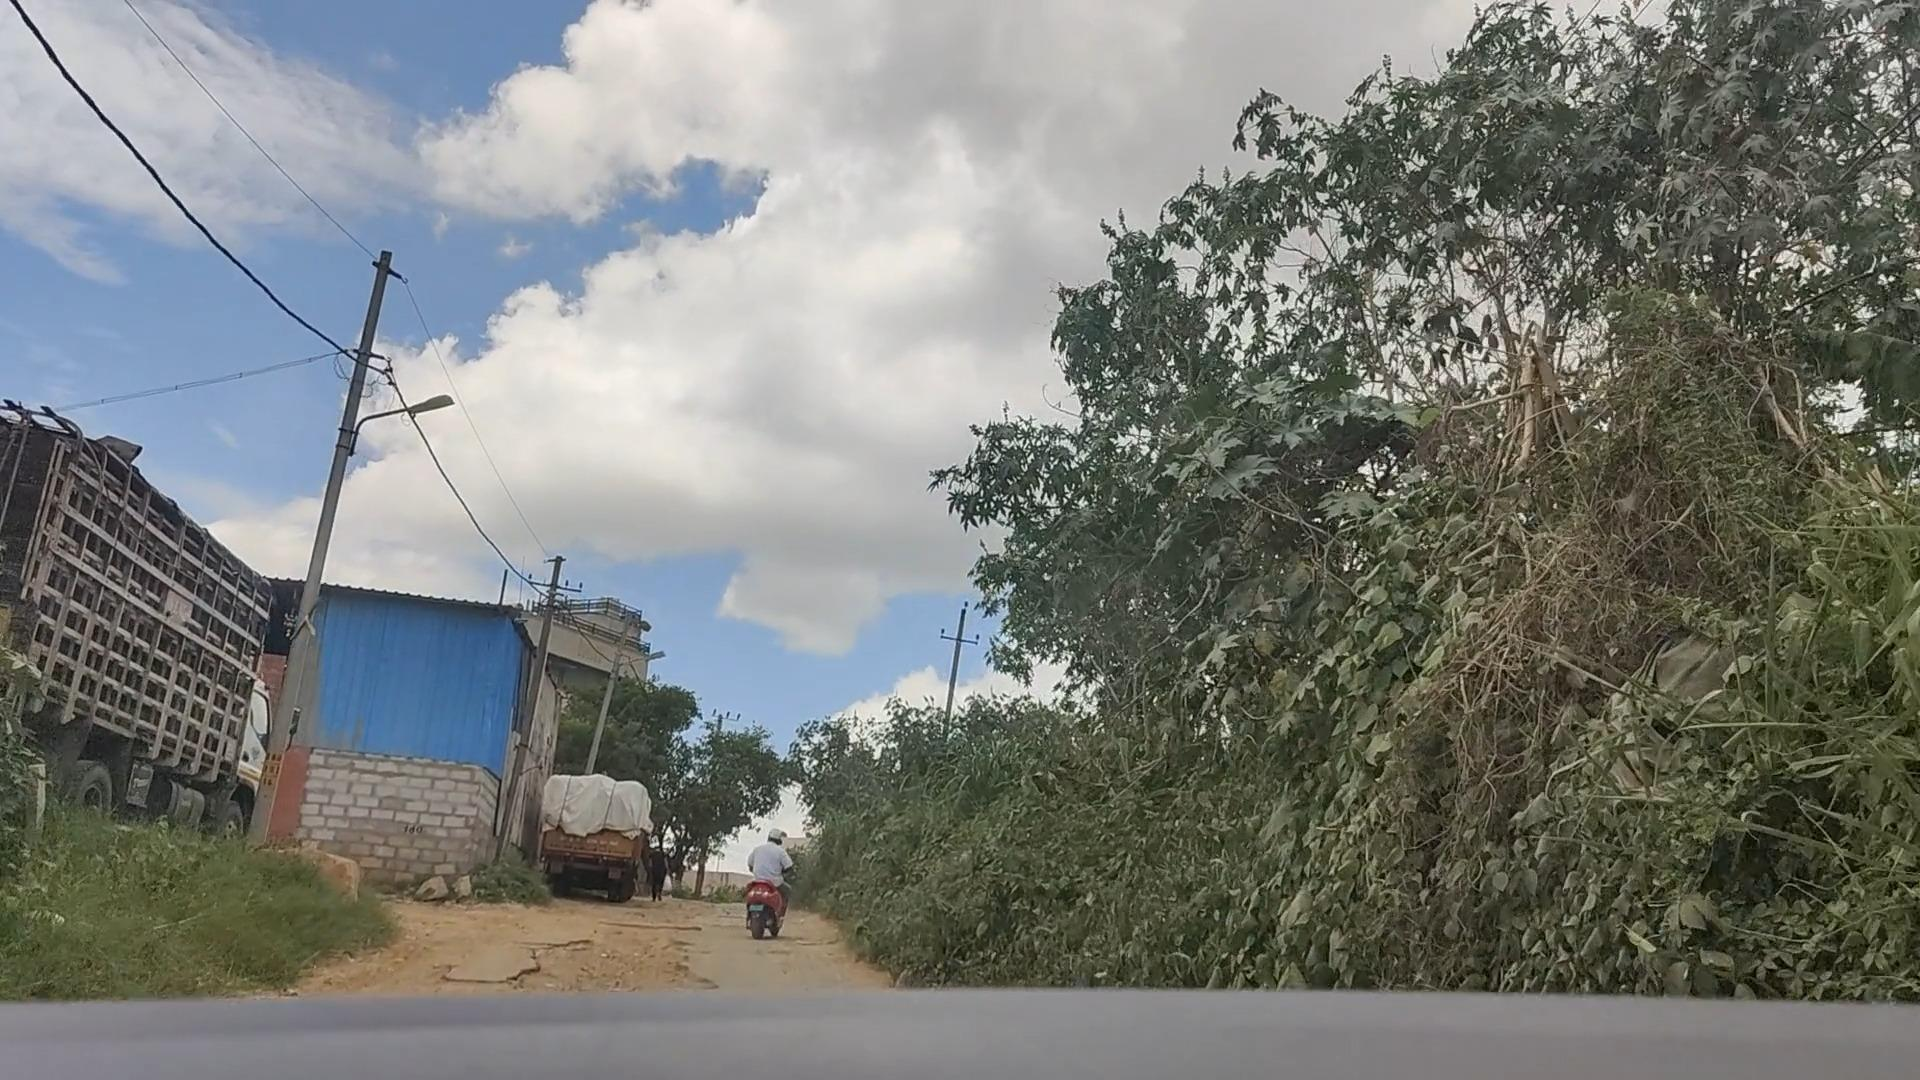HMV: (526, 753, 657, 910)
RoadDamages: (438, 906, 740, 988)
